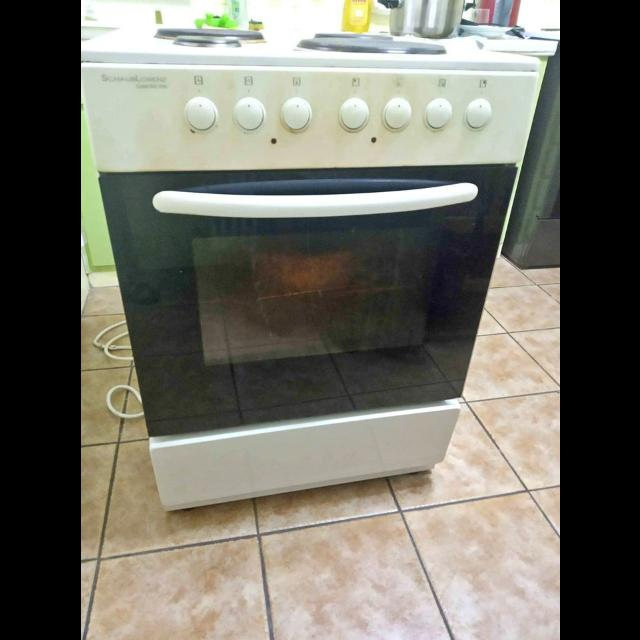Oven: (80, 0, 546, 598)
